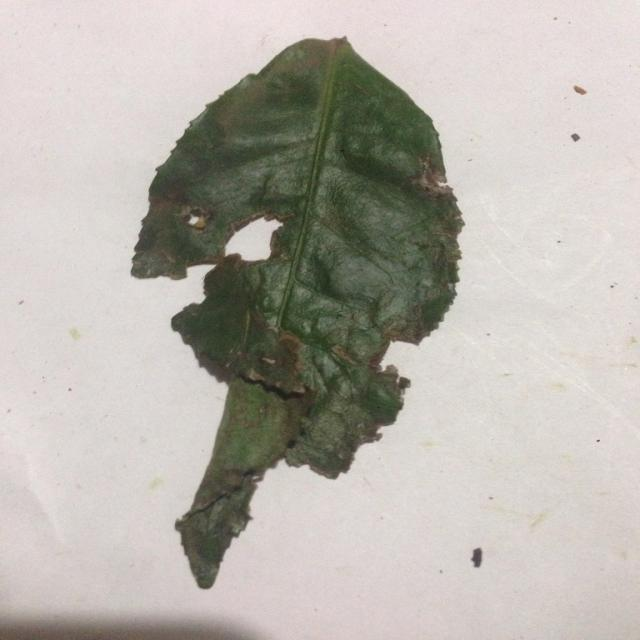Red Leaf Spot: (123, 28, 473, 604)
